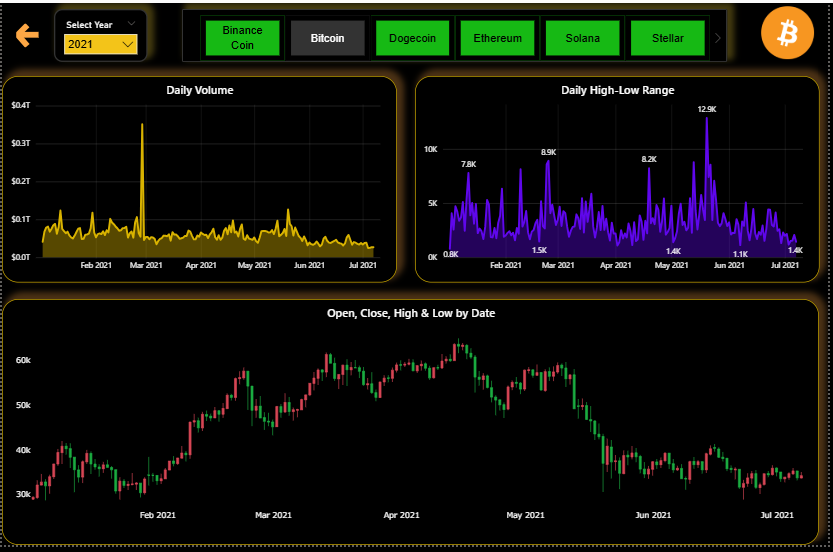

What the dashboard file says about the page in this screenshot:
{"tool":"powerbi","page":{"name":"Trends Analysis","canvas":[1280,840],"ordinal":1},"visuals":[{"type":"slicer","fields":{"Values":["CryptoDataSet.Name"]},"box":[278.3,10,845,81.7],"z":0},{"type":"slicer","fields":{"Values":["CryptoDataSet.Year"]},"box":[80,10,145,81.7],"z":1000},{"type":"actionButton","box":[0,28.3,80,45],"z":2000},{"type":"lineChart","title":"Daily Volume","fields":{"Category":["CryptoDataSet.Date"],"Y":["Sum(CryptoDataSet.Volume)"]},"box":[0,113.3,611.7,320],"z":3000},{"type":"lineChart","title":"Daily High-Low Range","fields":{"Category":["CryptoDataSet.Date"],"Y":["Sum(CryptoDataSet.HighLowRange)"]},"box":[640,113.3,626.7,320],"z":4000},{"type":"candlestick95C27C147643B5E840B1D29AC39783F7","title":"Open, Close, High & Low by Date","fields":{"col_1":["Sum(CryptoDataSet.Close)"],"col_2":["Sum(CryptoDataSet.High)"],"col_3":["Sum(CryptoDataSet.Low)"],"col_4":["Sum(CryptoDataSet.Open)"],"col_0":["CryptoDataSet.Date"]},"box":[0,458.7,1266.2,381.3],"z":5000},{"type":"image","box":[1168.3,0,98.3,91.7],"z":6000}]}

Visuals, with their boxes in screenshot pixels (x1, y1, x2, y2), scaled from the page's 1280x840 canvas onto the 833x552 screenshot:
slicer - CryptoDataSet.Name: region(181, 7, 731, 60)
slicer - CryptoDataSet.Year: region(52, 7, 146, 60)
actionButton: region(0, 19, 52, 48)
"Daily Volume" lineChart: region(0, 74, 398, 285)
"Daily High-Low Range" lineChart: region(416, 74, 824, 285)
"Open, Close, High & Low by Date" candlestick95C27C147643B5E840B1D29AC39783F7: region(0, 301, 824, 551)
image: region(760, 0, 824, 60)
